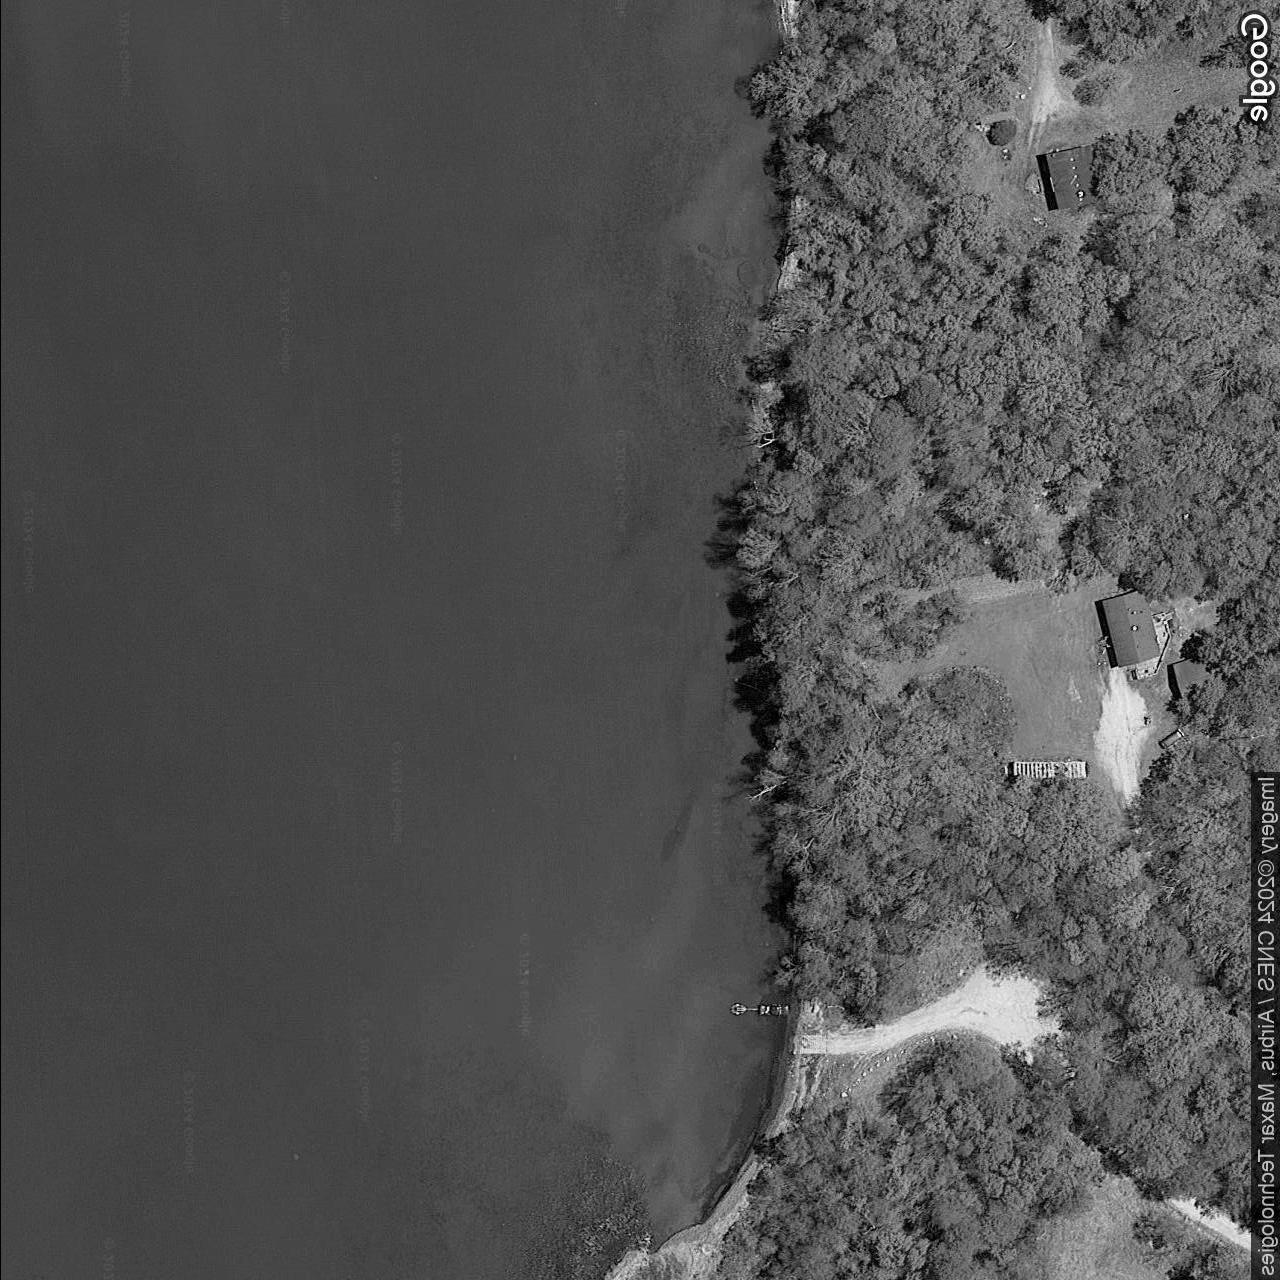Garage: (1172, 648, 1226, 702)
House: (1098, 587, 1162, 668), (1044, 143, 1102, 210)
Trailer: (1012, 761, 1087, 779)
